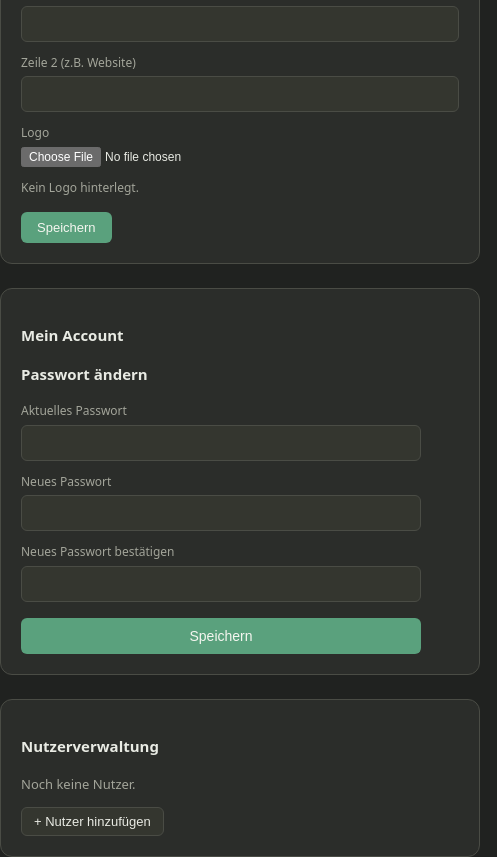
Test: SettingsPage › user management section › creates a user and shows the confirmation message
(page scrolled)
Check: the text "Noch keine Nutzer." is shown, box [21,775,136,793]
Step 1. Click the button "+ Nutzer hinzufügen" → {"x": 92, "y": 822}, box [21,807,164,836]
(page scrolled)
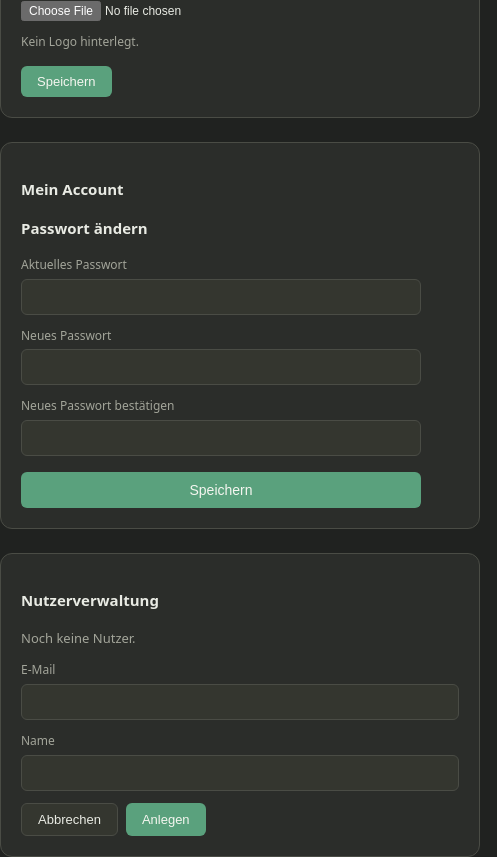
Step 2. Type "new@example.com" into the 2nd field → {"x": 240, "y": 702}, box [21,684,459,720]
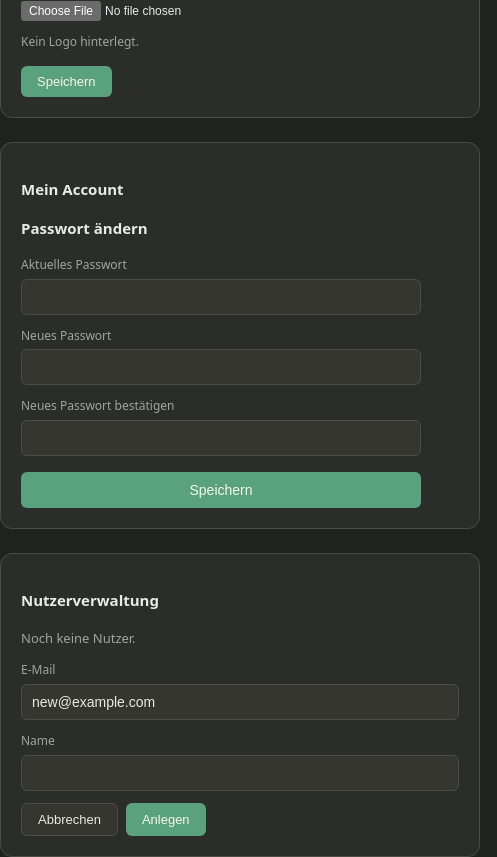
Step 3. Type "Neu" into the 3rd field → {"x": 240, "y": 772}, box [21,754,459,790]
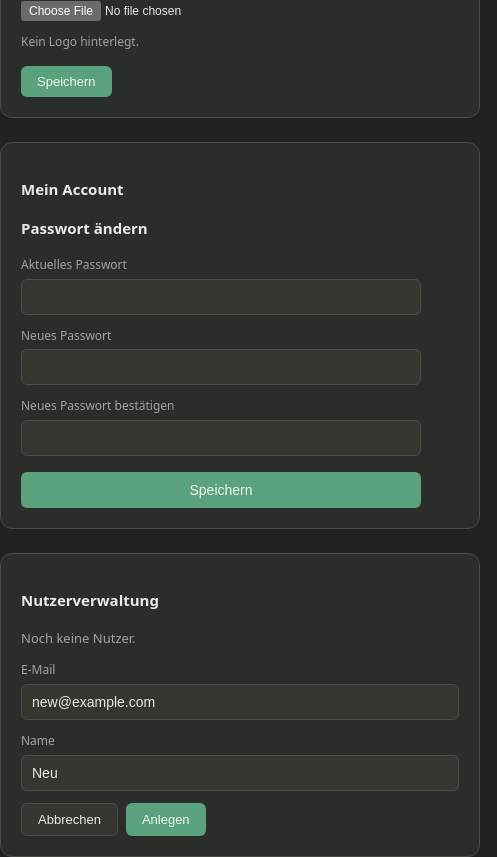
Step 4. Click the button "Anlegen" → {"x": 166, "y": 819}, box [126,802,206,836]
(page scrolled)
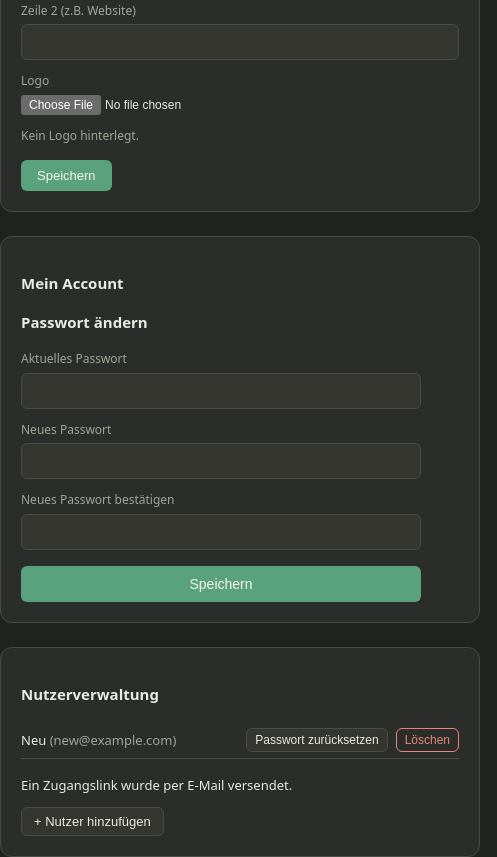
Check: the text "Ein Zugangslink wurde per E-Mail versendet." is shown, box [21,776,292,794]
Check: the text "Neu" is shown, box [21,731,46,749]
